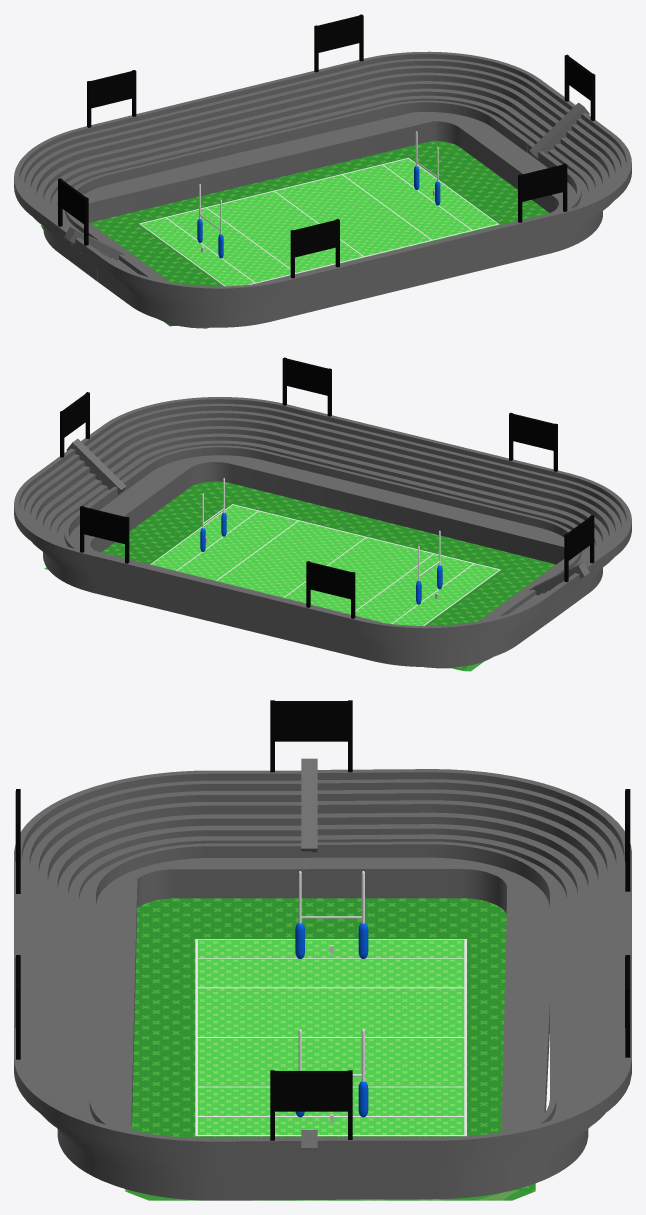
3 views of the same model, one above another, from view 1: azimuth 30°, elevation 25°; view 2: azimuth 150°, elevation 25°; view 3: azimuth 270°, elevation 25° (orthographic). The views are drawn at different scales.
Parts seen in each view (by area): view 1: Cube_5, Cube_6, Cube_2_4, Cube_3, Cube_4, Cube_7, Cube, Cube_12, Cube_13_3, Cube_13_4, Cube_9, Cube_13_2 (+2 smaller); view 2: Cube_6, Cube_5, Cube_2_4, Cube_7, Cube_4, Cube_3, Cube_13_3, Cube_13_4, Cube, Cube_12, Cube_9, Cube_13 (+2 smaller); view 3: Cube_5, Cube_6, Cube_2_4, Cube_4, Cube_3, Cube_7, Cube_13, Cube_13_2, Cube_8.
Part boxes in pixels (x1,y1,x2,y2): Cube_5: [14, 51, 573, 280]; Cube_6: [72, 104, 631, 327]; Cube_2_4: [141, 158, 496, 286]; Cube_3: [74, 112, 528, 258]; Cube_4: [40, 140, 549, 326]; Cube_7: [128, 154, 576, 328]; Cube: [294, 220, 338, 257]; Cube_12: [90, 71, 134, 108]; Cube_13_3: [521, 164, 565, 202]; Cube_13_4: [317, 15, 361, 52]; Cube_9: [529, 102, 589, 158]; Cube_13_2: [565, 56, 592, 100]; Cube_6: [65, 397, 631, 616]; Cube_5: [14, 452, 581, 666]; Cube_2_4: [151, 505, 498, 625]; Cube_7: [114, 455, 573, 593]; Cube_4: [44, 481, 555, 671]; Cube_3: [69, 499, 525, 668]; Cube_13_3: [285, 358, 328, 395]; Cube_13_4: [82, 507, 125, 543]; Cube: [511, 414, 554, 450]; Cube_12: [309, 562, 351, 599]; Cube_9: [66, 438, 126, 494]; Cube_13: [567, 516, 593, 560]; Cube_5: [311, 769, 631, 1199]; Cube_6: [14, 770, 335, 1200]; Cube_2_4: [198, 939, 464, 1134]; Cube_4: [125, 898, 535, 1200]; Cube_3: [309, 857, 549, 1132]; Cube_7: [96, 858, 309, 1131]; Cube_13: [275, 701, 347, 741]; Cube_13_2: [275, 1071, 347, 1111]; Cube_8: [301, 758, 317, 852].
Bounding box in the file's own units: 23167 × 4590 × 15917.
9 materials, 4 textured.
